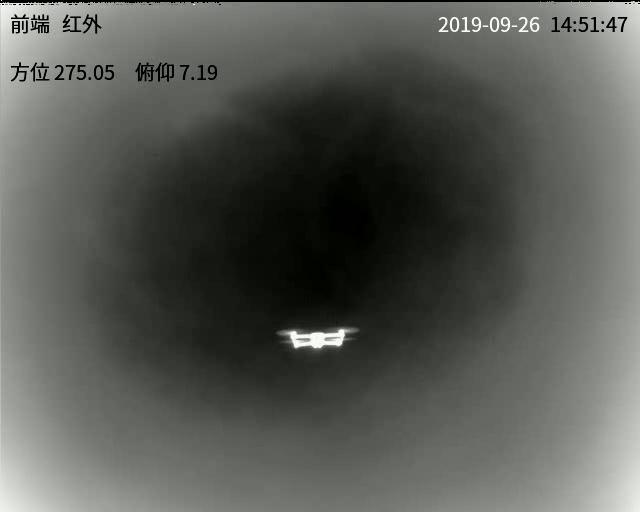DRONE: (279, 324, 356, 350)
